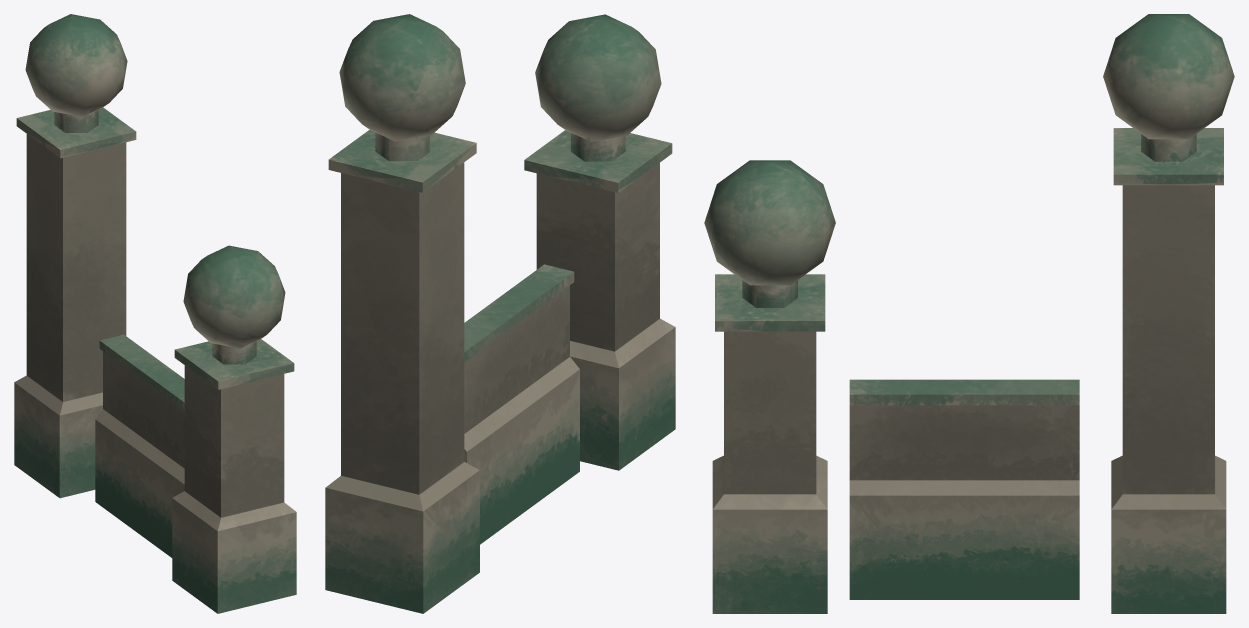
Rendered from Stone Wall Set.fbx.
The picture shows the model from 3 angles, left to right: view 1: azimuth 30°, elevation 25°; view 2: azimuth 150°, elevation 25°; view 3: azimuth 270°, elevation 25°; orthographic projection. The views are drawn at different scales.
Parts seen in each view (by area): view 1: Tall Pillar, Small Pillar, Wall; view 2: Tall Pillar, Small Pillar, Wall; view 3: Tall Pillar, Wall, Small Pillar.
Boxes of the visible parts, x1=… form: Tall Pillar: x1=14, y1=14, x2=136, y2=498; Small Pillar: x1=172, y1=245, x2=296, y2=613; Wall: x1=95, y1=334, x2=184, y2=557; Tall Pillar: x1=325, y1=14, x2=479, y2=613; Small Pillar: x1=524, y1=14, x2=675, y2=470; Wall: x1=464, y1=264, x2=579, y2=544; Tall Pillar: x1=1103, y1=14, x2=1234, y2=613; Wall: x1=849, y1=379, x2=1079, y2=599; Small Pillar: x1=704, y1=160, x2=835, y2=613.
Size of the model in its own units: 54.38 by 274 by 230.
Materials: 3 (3 with a texture image).
